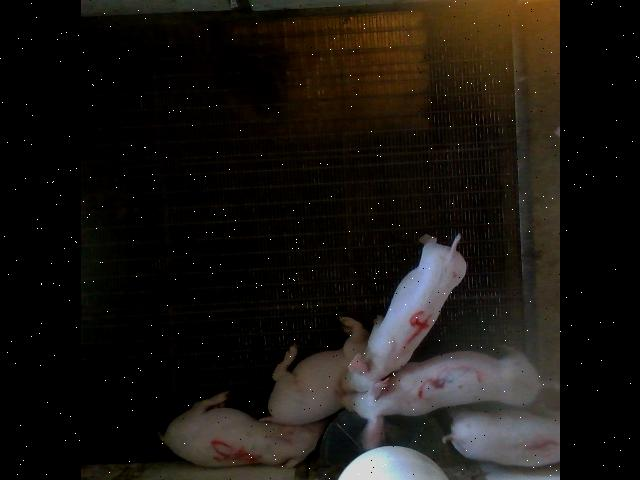pig-1: (441, 411, 559, 466)
pig-3: (341, 351, 543, 449)
pig-4: (340, 235, 464, 391)
pig-5: (158, 391, 326, 468)
